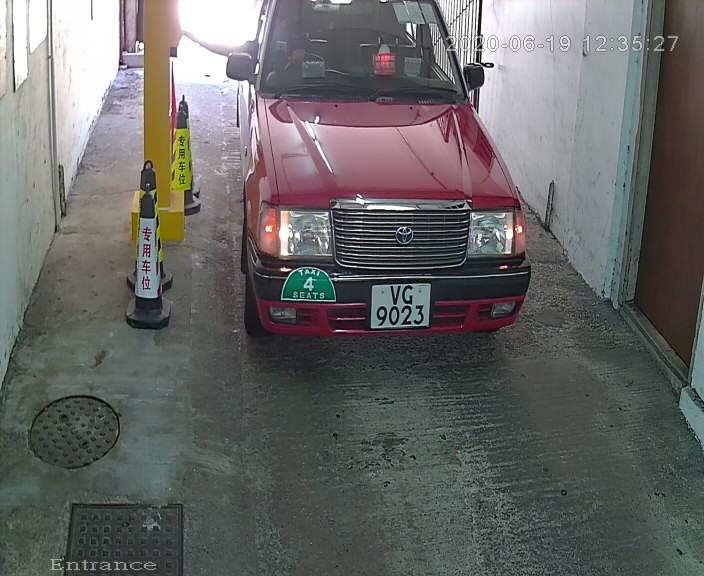taxi: (208, 1, 535, 359)
taxi_mark: (279, 260, 340, 308)
